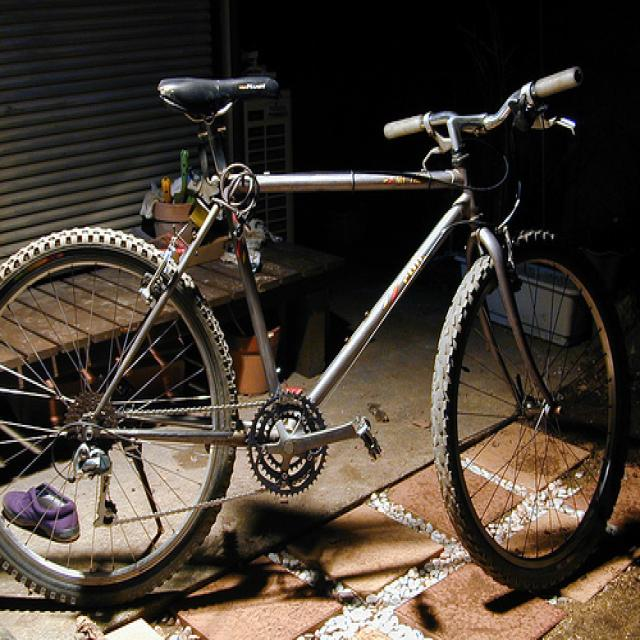bicycle: (1, 62, 629, 615)
